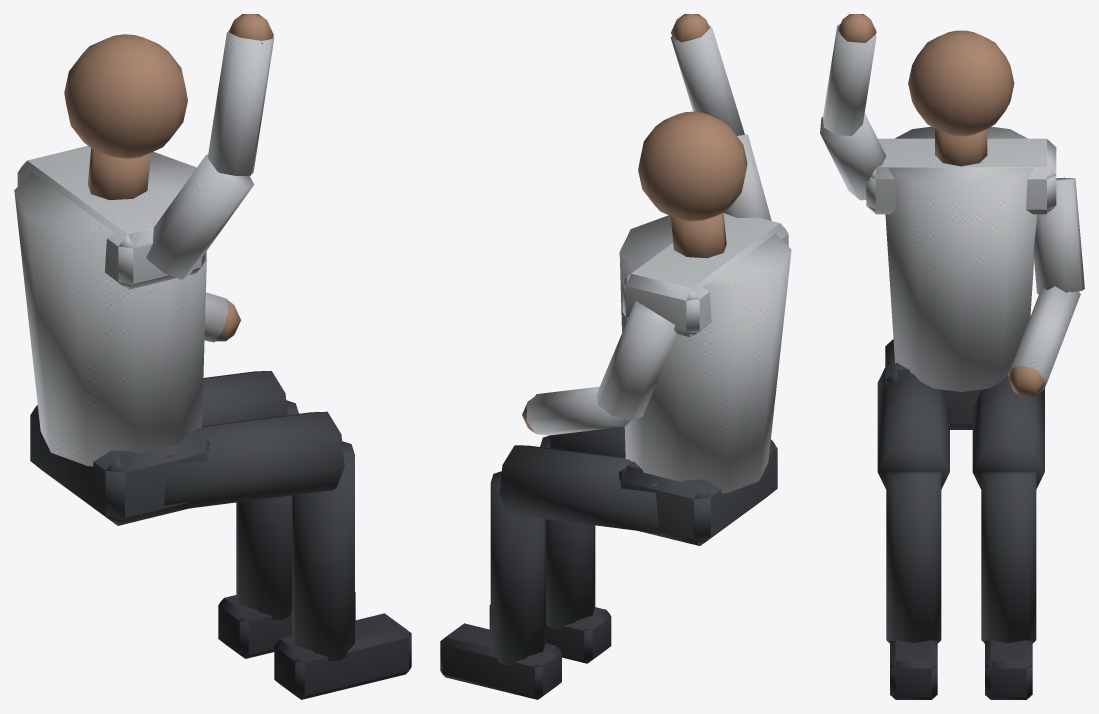
The model's file is crowd-seated-2_high.glb.
3 renders of one model, left to right at view 1: azimuth 30°, elevation 25°; view 2: azimuth 150°, elevation 25°; view 3: azimuth 270°, elevation 25°, orthographic. The views are drawn at different scales.
Visible parts, largest first — view 1: clothing, dark-steel, skin, rubber; view 2: clothing, dark-steel, skin, rubber; view 3: clothing, dark-steel, skin, rubber.
Boxes of the visible parts, box(x1,y1,x2,y2) form: clothing: box(14, 31, 274, 466); dark-steel: box(30, 370, 354, 661); skin: box(64, 14, 273, 341); rubber: box(218, 592, 411, 699); clothing: box(526, 24, 791, 493); dark-steel: box(490, 426, 777, 665); skin: box(522, 14, 747, 432); rubber: box(440, 604, 611, 699); clothing: box(820, 24, 1084, 391); dark-steel: box(877, 339, 1044, 643); skin: box(837, 14, 1044, 396); rubber: box(890, 640, 1032, 699).
Size of the model in its own units: 0.7148 by 1.42 by 0.5578.
4 materials, 3 textured.
